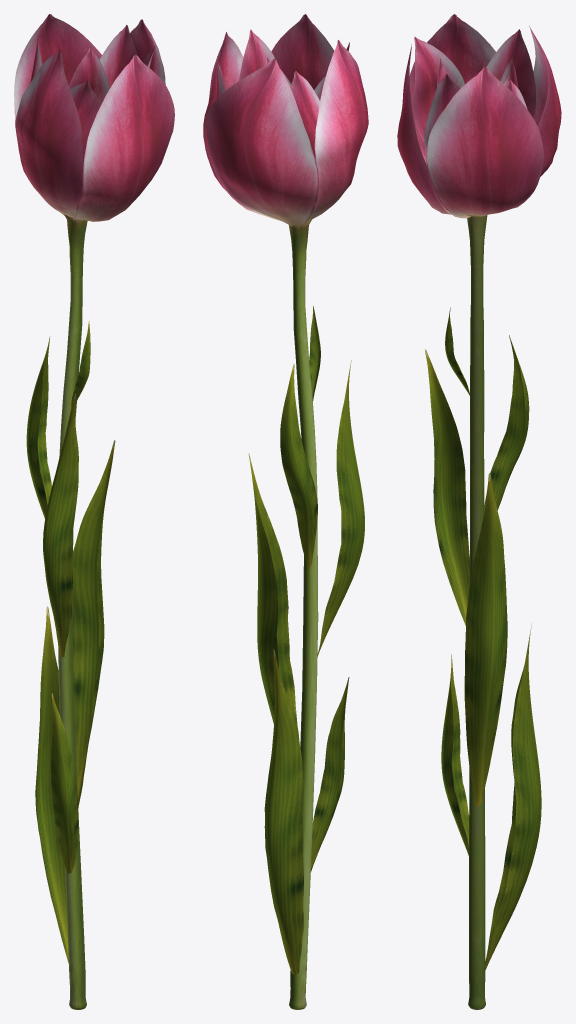
The model's file is tuliptest1.dae.
3 renders of one model, left to right at view 1: azimuth 30°, elevation 25°; view 2: azimuth 150°, elevation 25°; view 3: azimuth 270°, elevation 25°, orthographic.
Visible parts, largest first — view 1: Cylinder, Plane_005, Cylinder_017; view 2: Cylinder, Plane_005, Cylinder_017; view 3: Plane_005, Cylinder, Cylinder_017.
Boxes of the visible parts, bbox=[...] form: Cylinder: bbox=[14, 14, 174, 221]; Plane_005: bbox=[26, 320, 115, 963]; Cylinder_017: bbox=[58, 214, 87, 1009]; Cylinder: bbox=[203, 14, 368, 228]; Plane_005: bbox=[248, 306, 364, 974]; Cylinder_017: bbox=[289, 219, 318, 1009]; Plane_005: bbox=[425, 307, 541, 970]; Cylinder: bbox=[397, 14, 561, 218]; Cylinder_017: bbox=[467, 215, 487, 1009].
Size of the model in its own units: 4.07 by 4.27 by 28.15.
